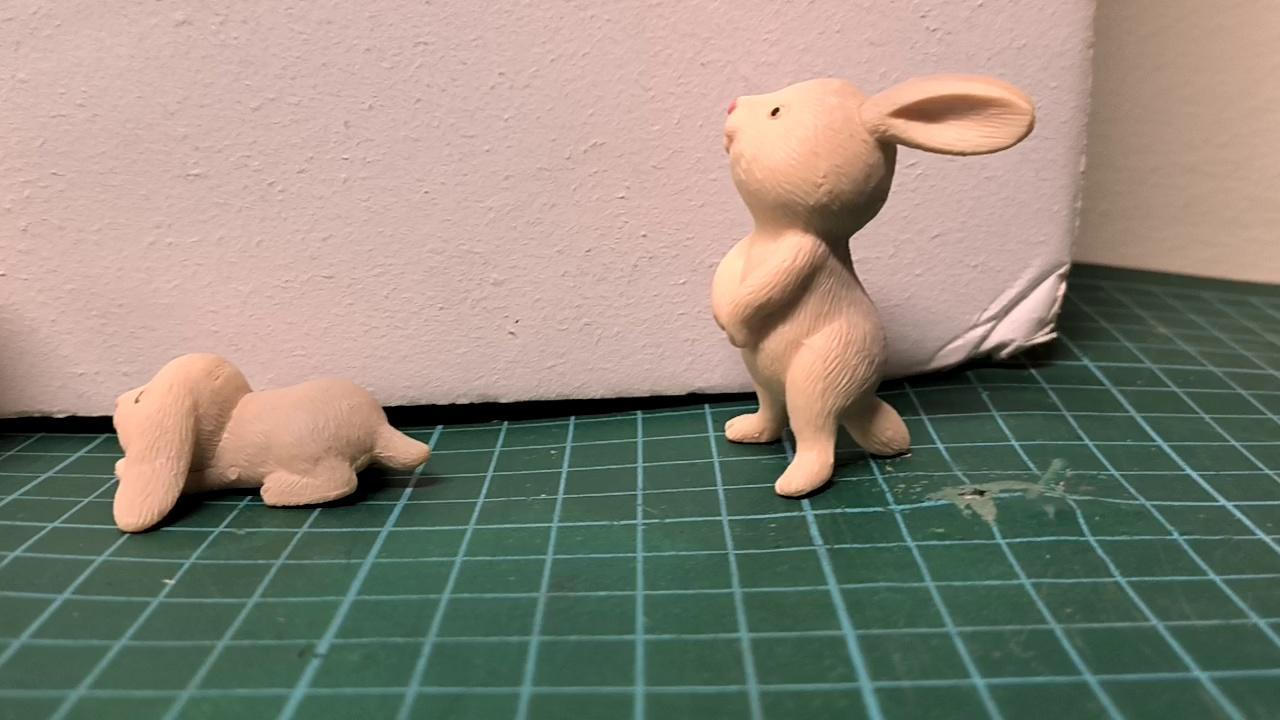pet: (709, 72, 1036, 498), (112, 350, 430, 531)
